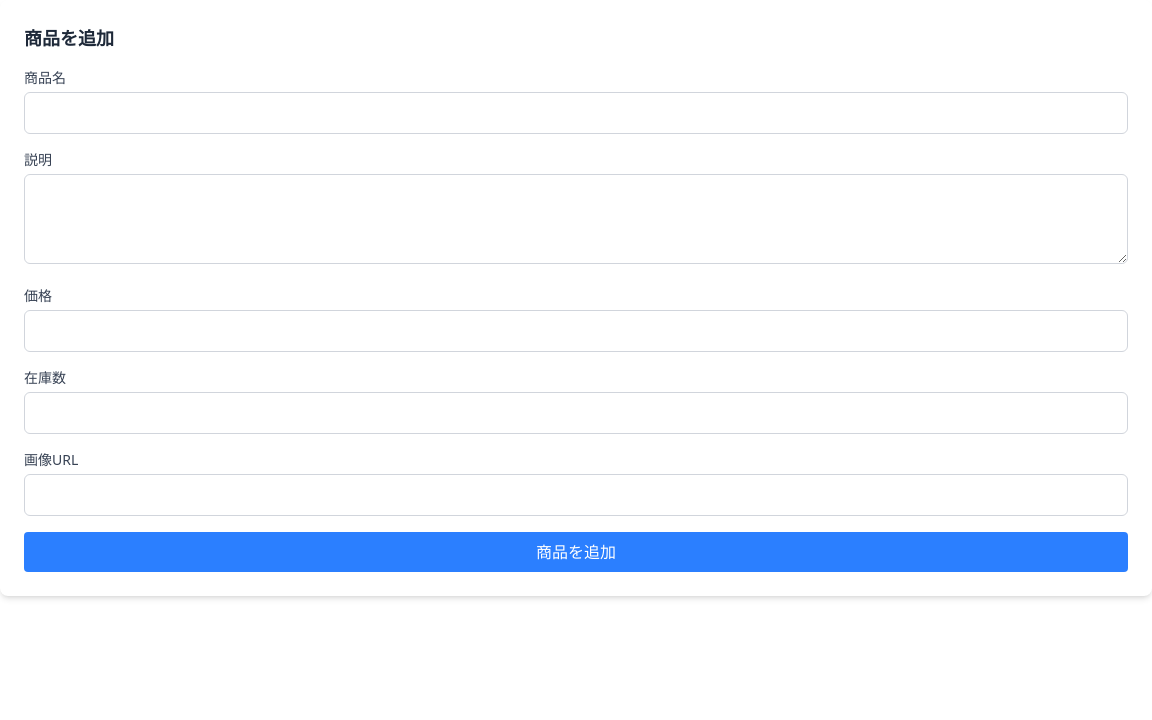
Scenario: ProductForm Component › should submit the form and create a product
The width and height of the screenshot is (1152, 720).
Note: Fill the form
In the field labelled "商品名": (576, 113) [24, 92, 1128, 134], type "Test Product"
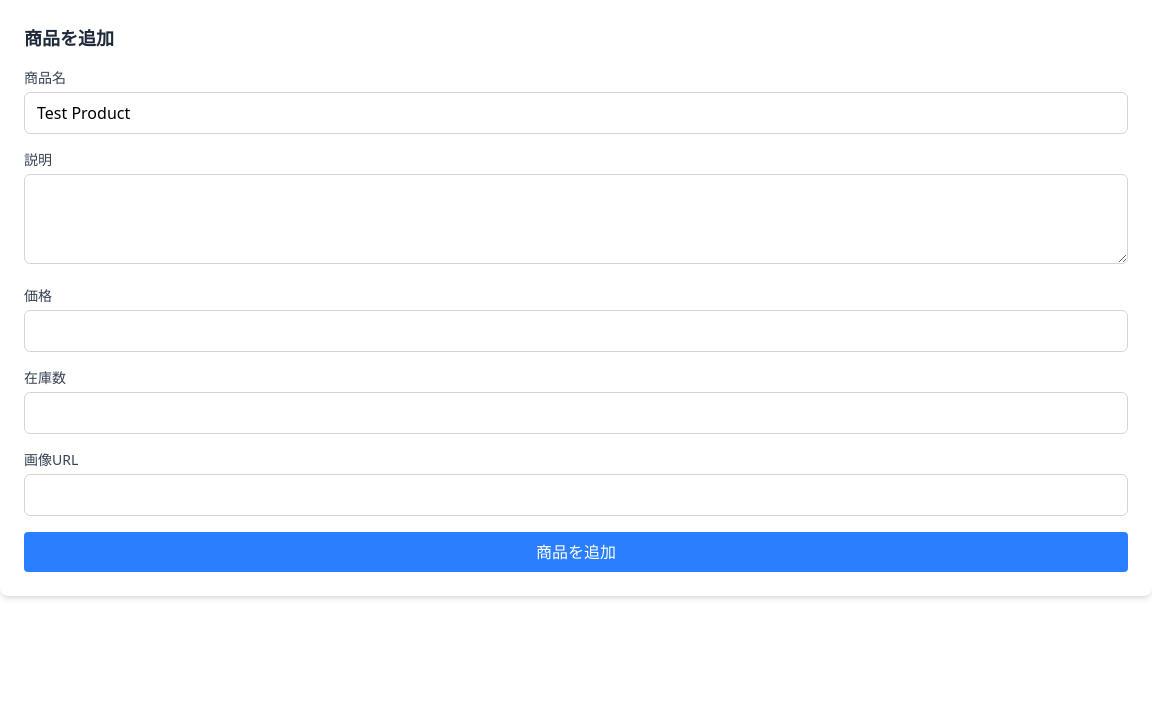
In the text box labelled "説明": (576, 219) [24, 174, 1128, 264], type "Test Description"
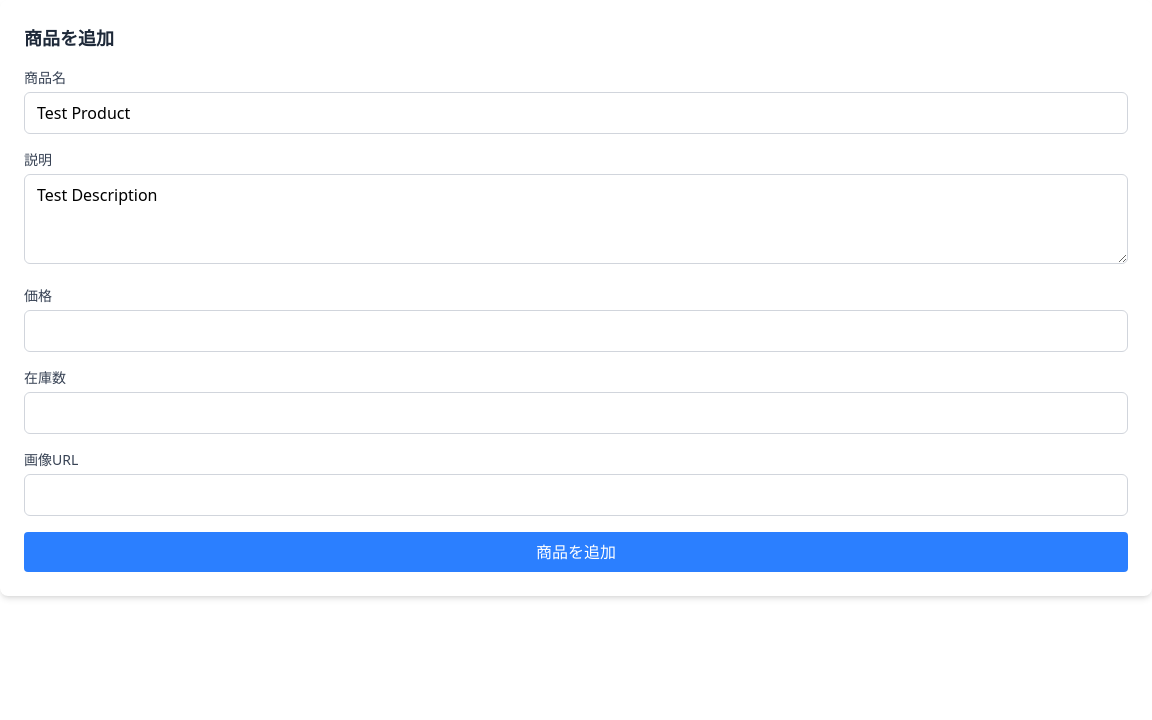
In the number field labelled "価格": (576, 331) [24, 310, 1128, 352], type "1000"
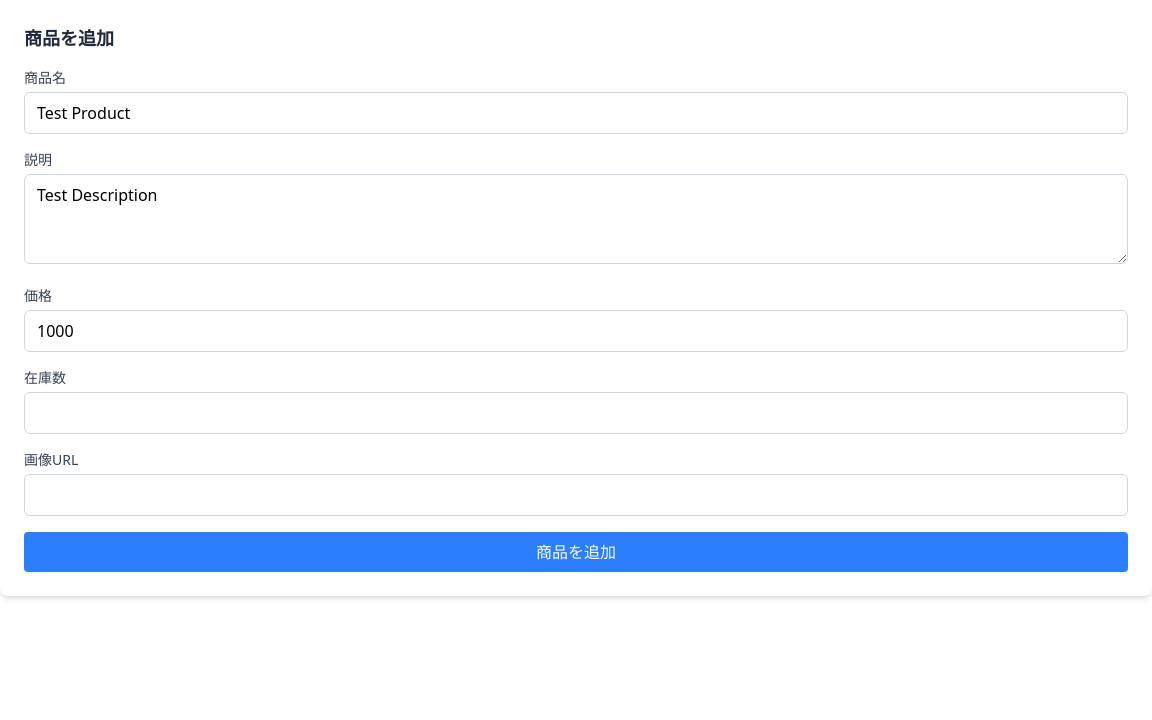
In the number field labelled "在庫数": (576, 413) [24, 392, 1128, 434], type "10"
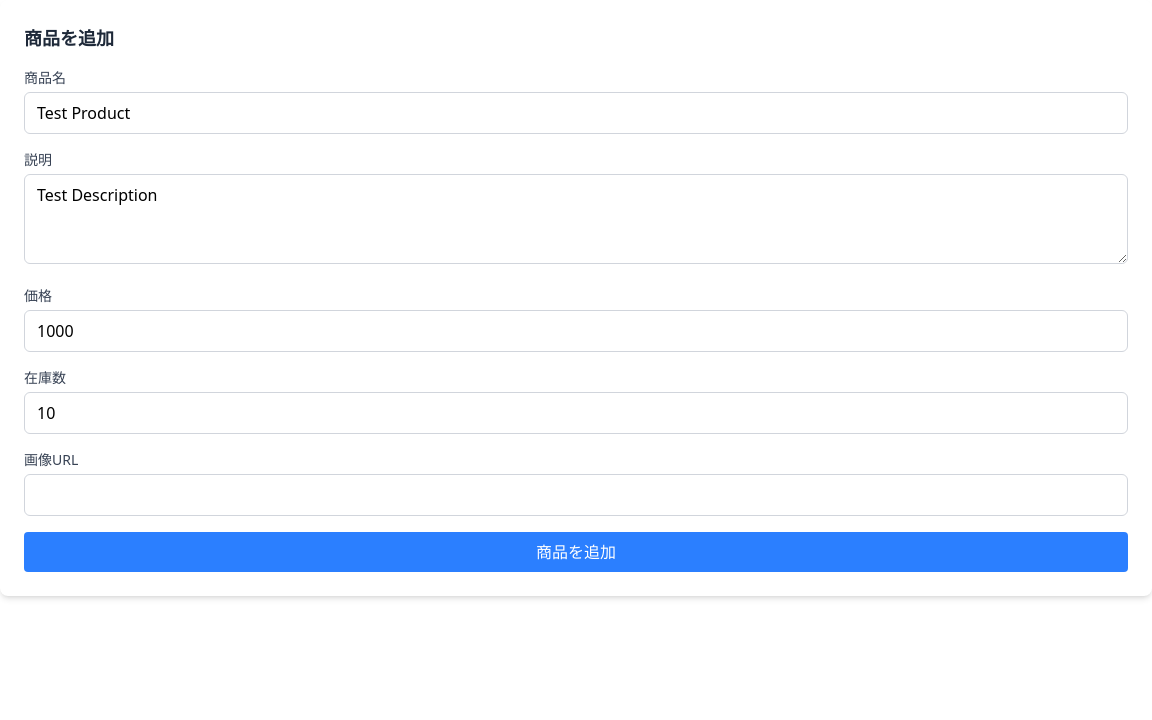
In the field labelled "画像URL": (576, 495) [24, 474, 1128, 516], type "https://example.com/image.jpg"
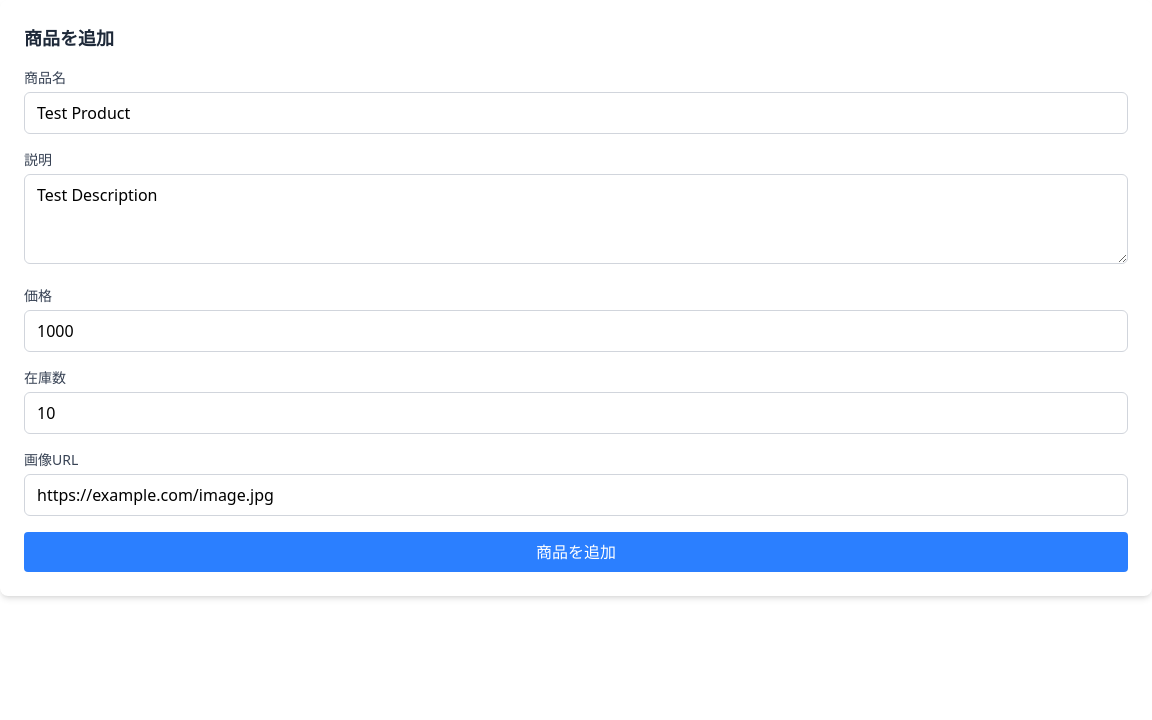
Note: Submit the form
Click the button "商品を追加": (576, 552) [24, 532, 1128, 572]
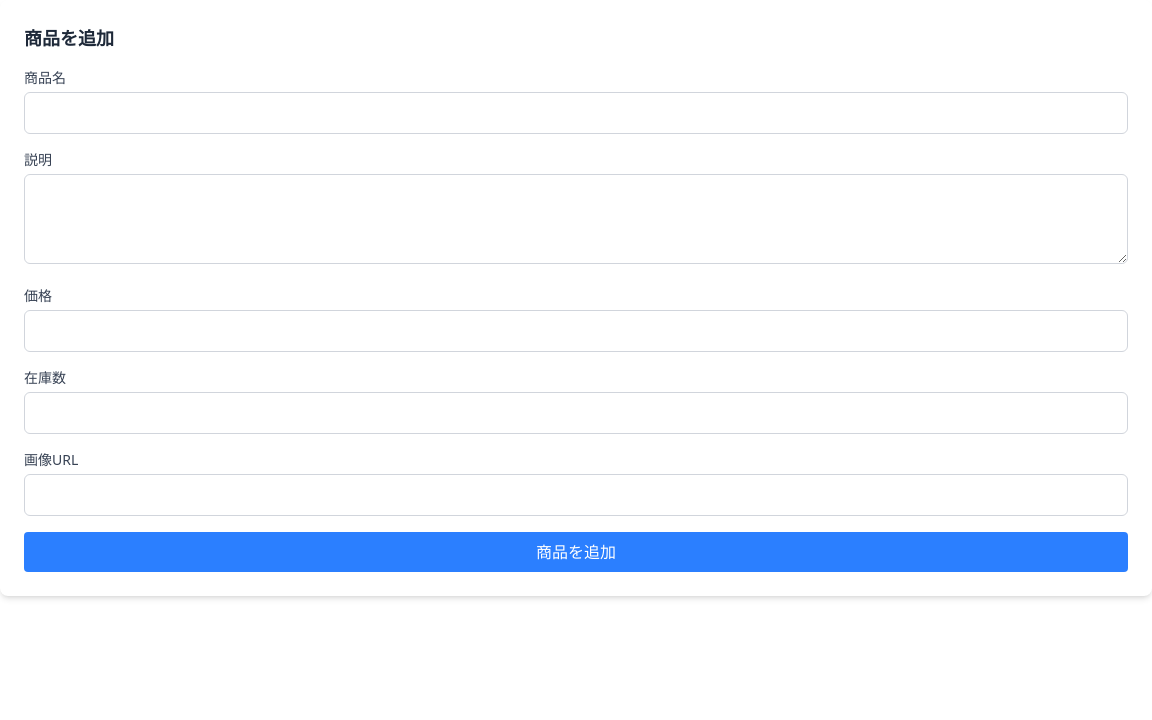
Expected: the field labelled "商品名" is empty, [24, 92, 1128, 134]
Expected: the text box labelled "説明" is empty, [24, 174, 1128, 264]
Expected: the number field labelled "価格" is not empty, [24, 310, 1128, 352]
